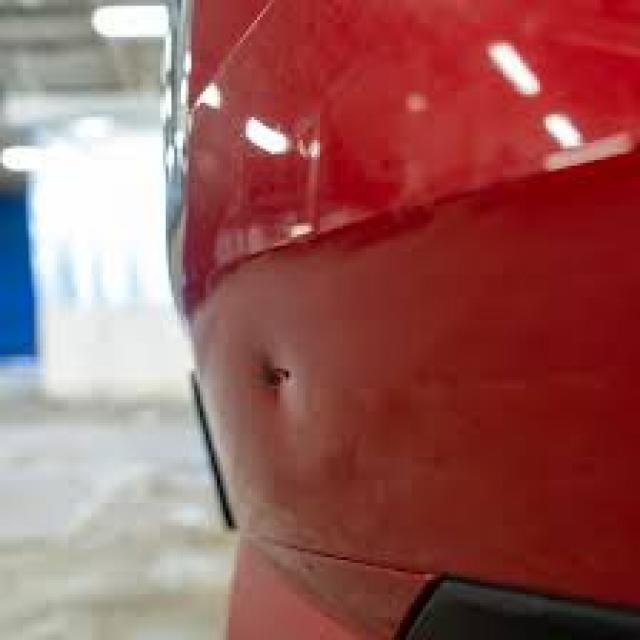dent-or-scratch: (229, 326, 322, 408)
